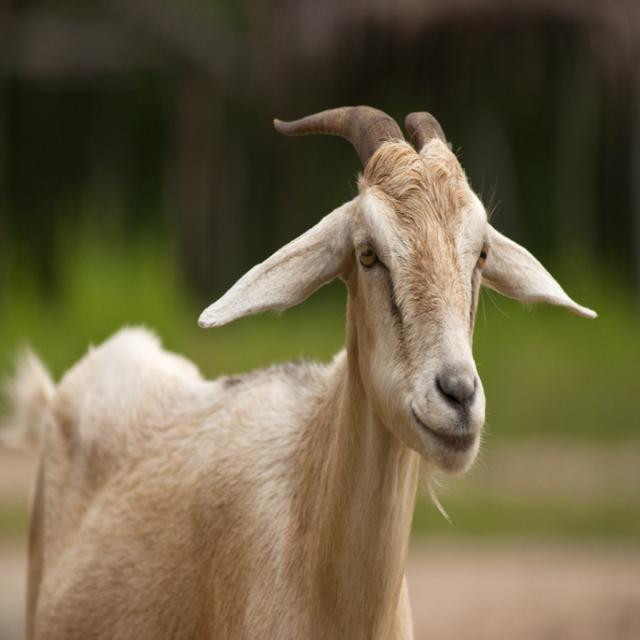Goat: (8, 103, 596, 639)
